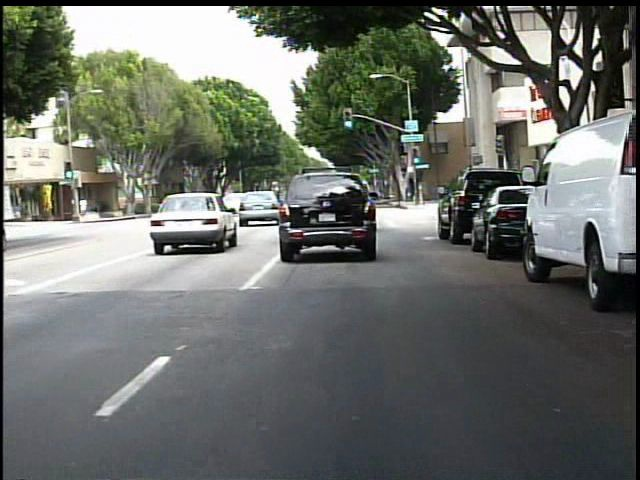person: (80, 193, 92, 221)
